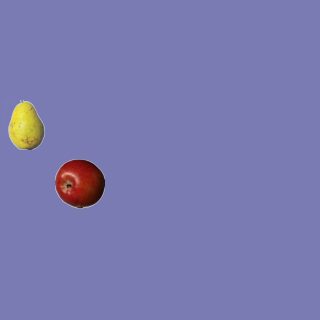Apple Braeburn: (54, 158, 104, 208)
Pear Monster: (1, 99, 51, 149)
